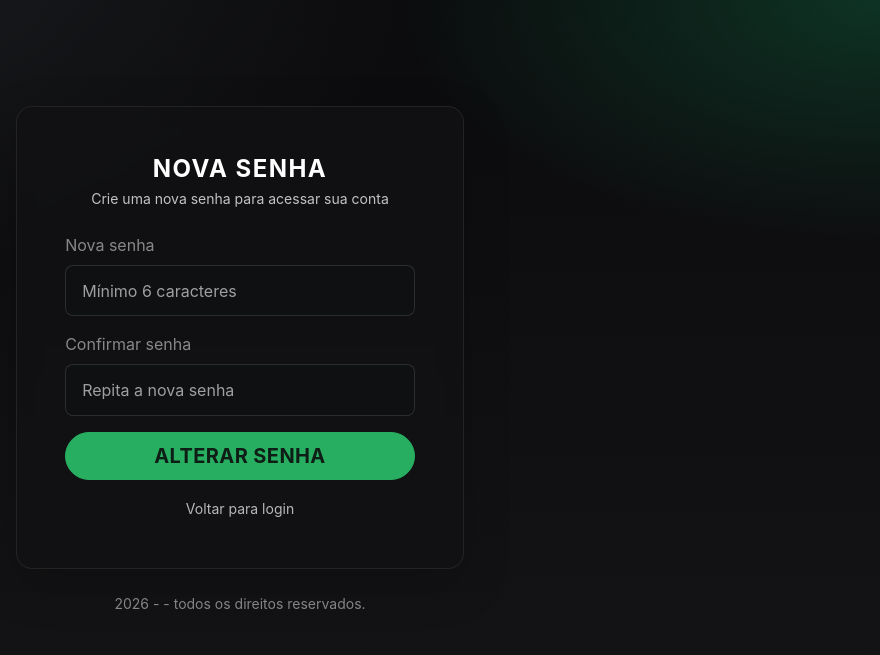
password flows › does not reset when confirmations differ
Type "secret123" into the password field labelled "Nova senha" at {"x": 240, "y": 291}, box [65,265,415,316]
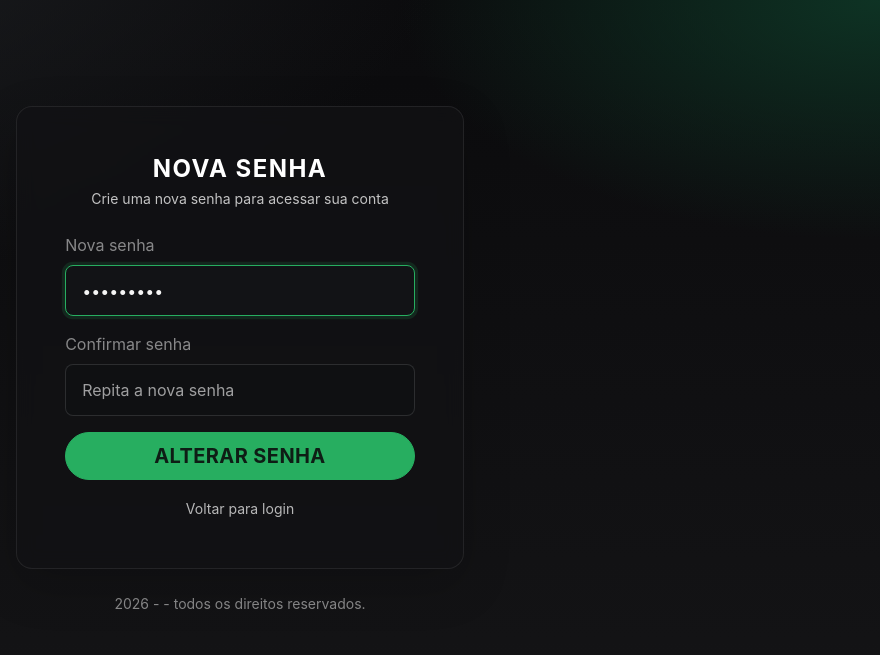
Type "different" into the password field labelled "Confirmar senha" at {"x": 240, "y": 390}, box [65,364,415,416]
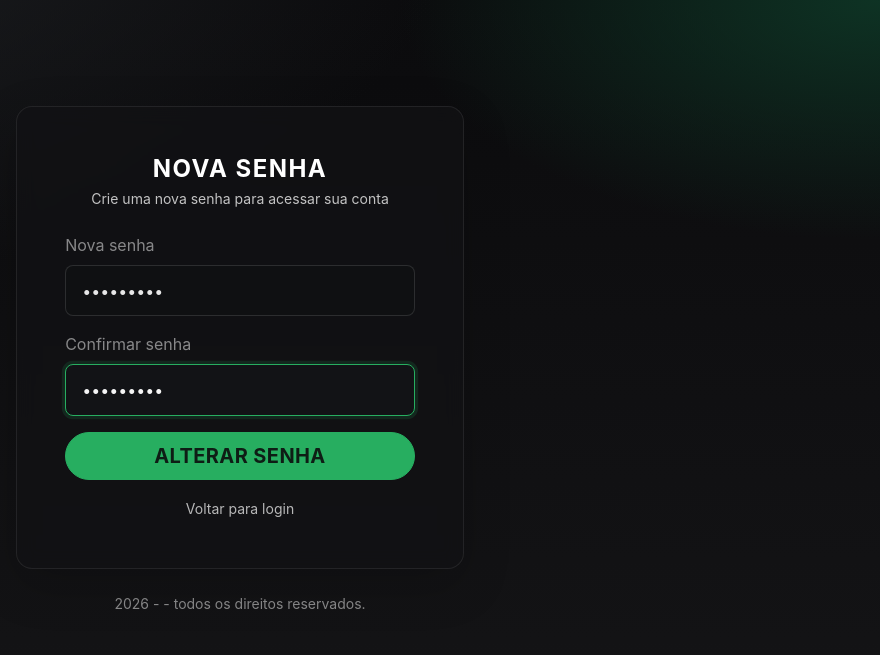
Click the button "Alterar senha" at {"x": 240, "y": 456}, box [65,432,415,480]
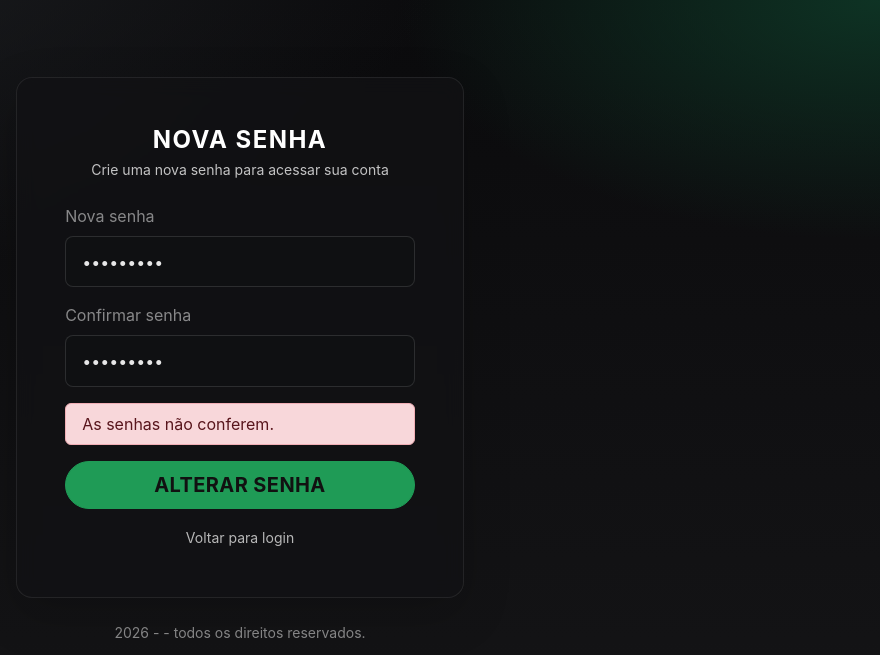
Result: the text "As senhas não conferem." is shown at [65,403,415,445]
